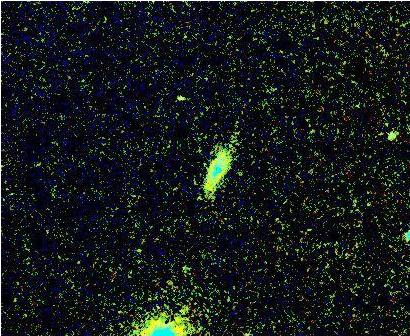star: (163, 82, 193, 112)
